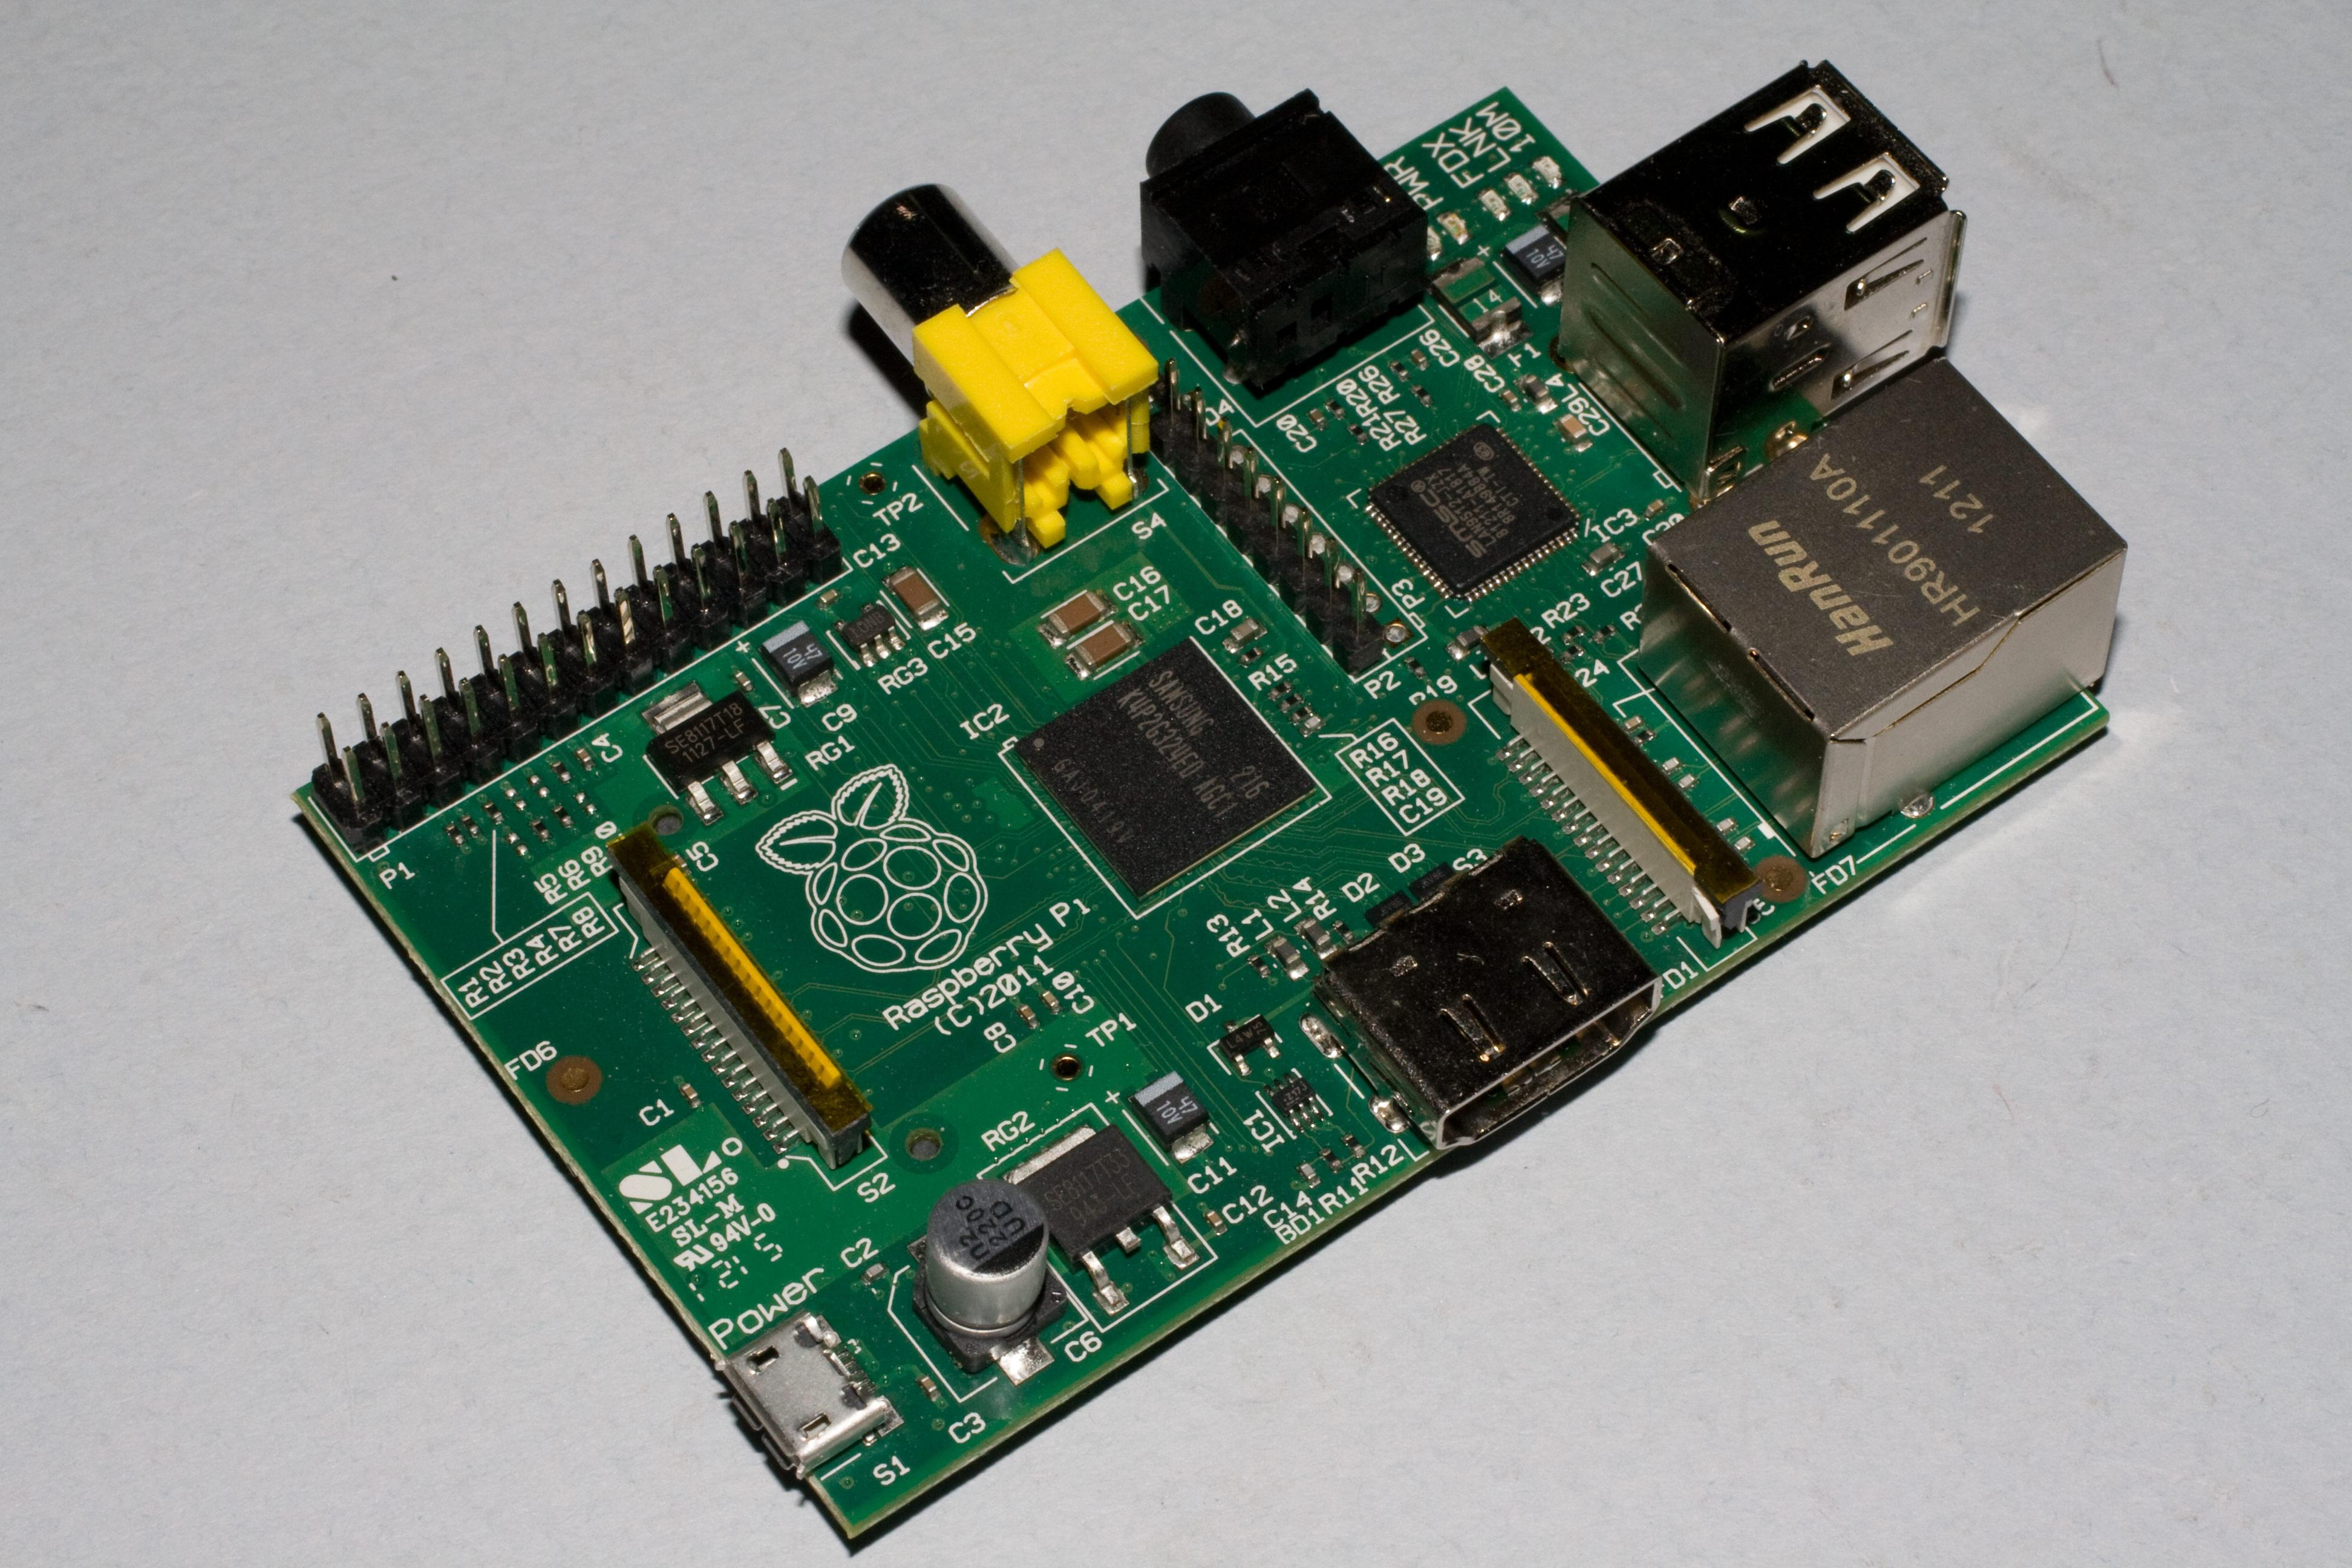audiojack: (833, 171, 1157, 556)
bchi: (1010, 649, 1326, 884)
gpio: (289, 472, 850, 852)
